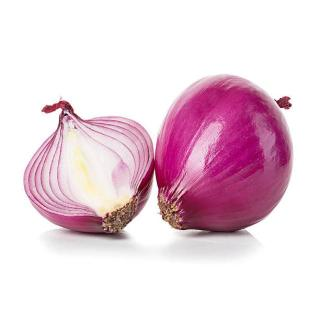Bawang Merah: (154, 70, 298, 239), (21, 99, 156, 240)
